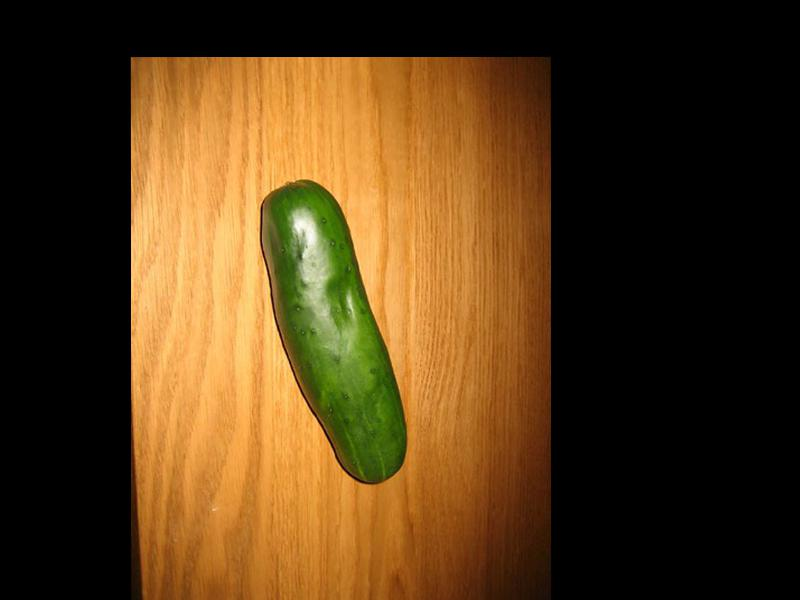Cucumber: (260, 183, 405, 485)
